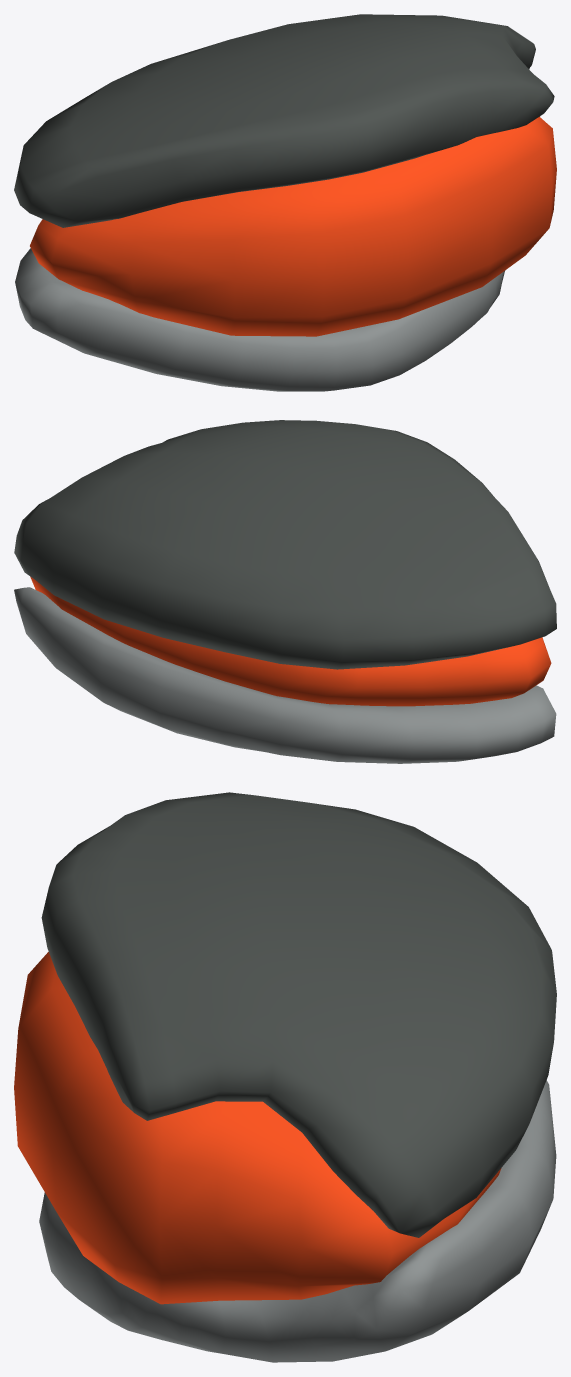
File: xsens_RightCarpus.dae
3 views of the same model, one above another, from view 1: azimuth 30°, elevation 25°; view 2: azimuth 150°, elevation 25°; view 3: azimuth 270°, elevation 25° (orthographic). The views are drawn at different scales.
Parts seen in each view (by area): view 1: RightCarpus; view 2: RightCarpus; view 3: RightCarpus.
Part boxes in pixels (left/top/right/bottom): RightCarpus: left=14, top=14, right=556, bottom=391; RightCarpus: left=14, top=420, right=556, bottom=763; RightCarpus: left=14, top=792, right=556, bottom=1362.
Bounding box in the file's own units: 0.0695 × 0.043 × 0.0342.
